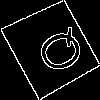Q: (25, 23, 90, 82)
